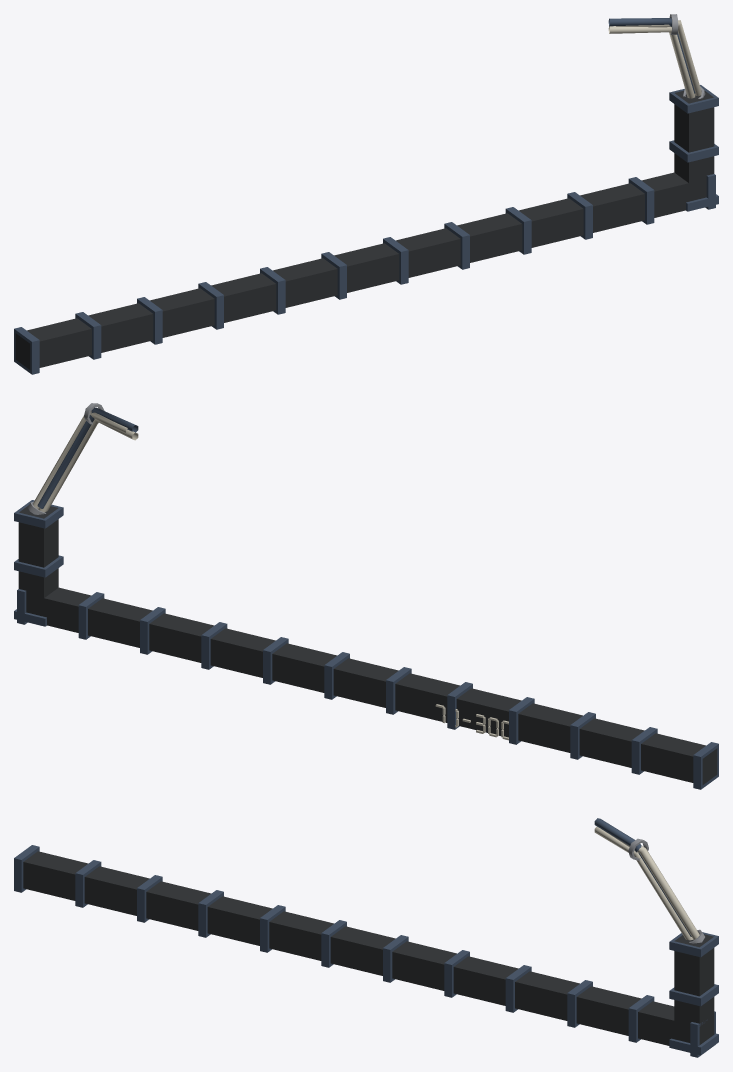
Rendered from ko300_duct.obj.
3 renders of one model, top to bottom at view 1: azimuth 30°, elevation 25°; view 2: azimuth 150°, elevation 25°; view 3: azimuth 330°, elevation 25°, orthographic.
Parts seen in each view (by area): view 1: ko300_duct; view 2: ko300_duct; view 3: ko300_duct.
Boxes of the visible parts, x1,y1,x2,y2 form: ko300_duct: (14,14,718,374); ko300_duct: (14,403,718,789); ko300_duct: (14,818,718,1057).
Bounding box in the file's own units: 2.71 × 0.8012 × 0.2209.
